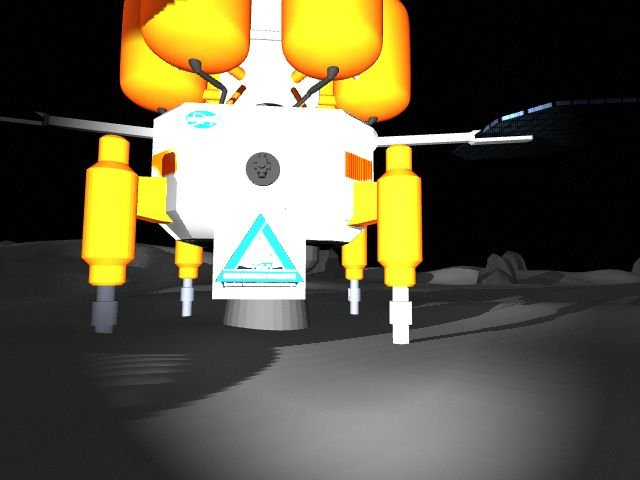basemarker: (214, 212, 303, 290)
